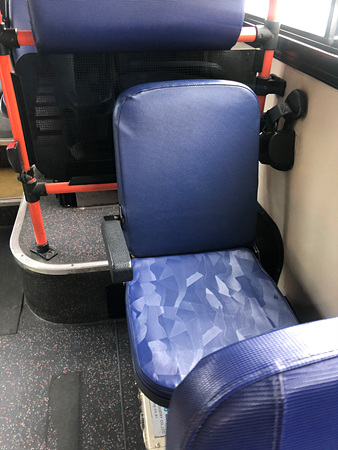seat: (116, 79, 293, 371)
